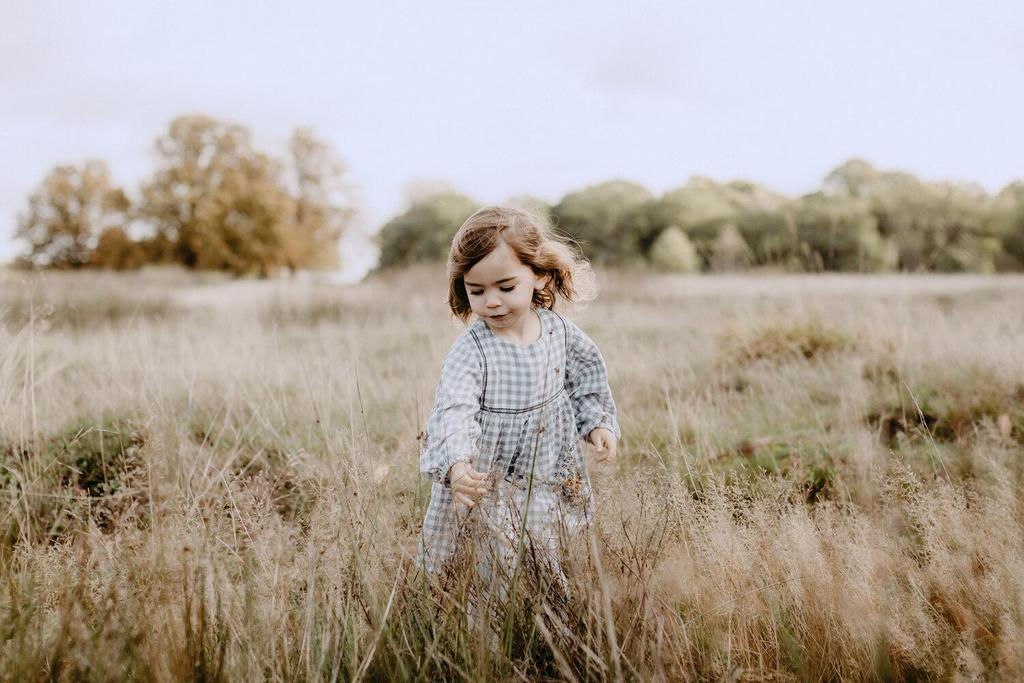child: (402, 198, 629, 606)
